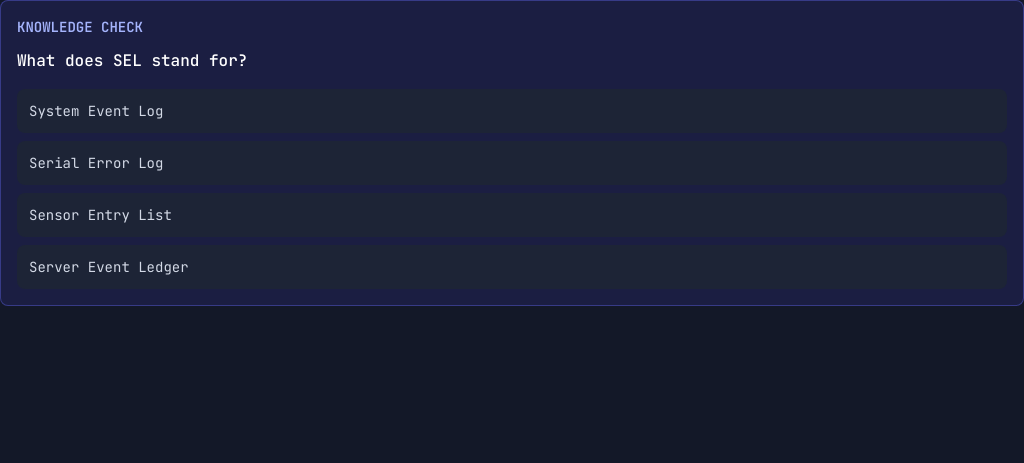
Test: InlineQuiz › should show incorrect feedback on wrong answer
Click the button "Serial Error Log" at coordinates (96, 163), box [17,141,1007,185]
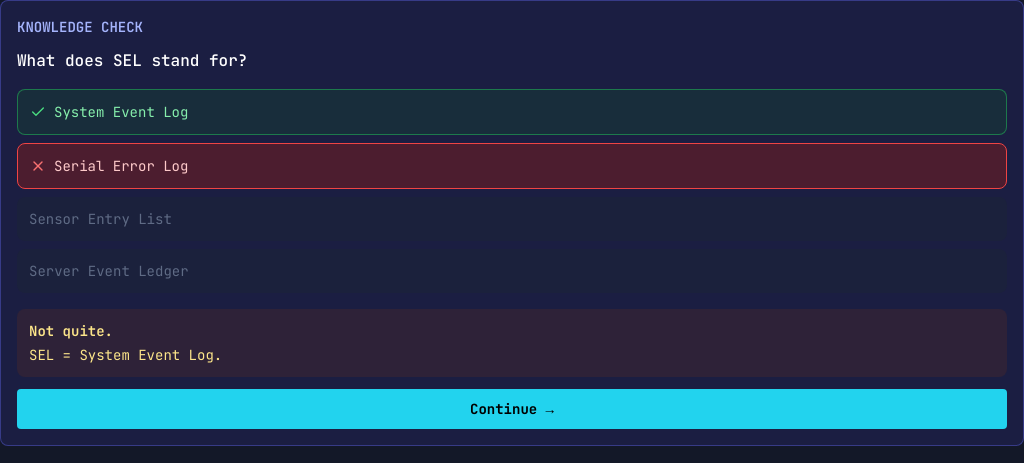
Now the text "Not quite." is shown, box [29,322,113,340]
